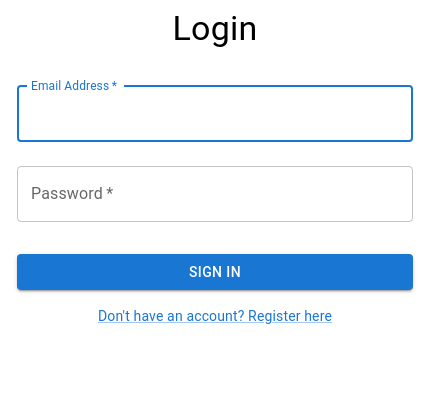
Test: LoginPage Component › displays error message when login fails
This screenshot has width=431, height=397.
In the field labelled "Email Address *": [215, 114] box [17, 86, 413, 142], type "user@example.com"
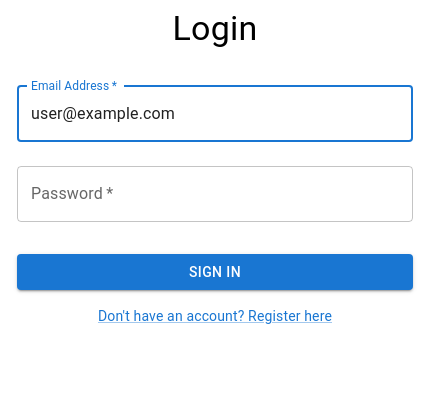
In the password field labelled "Password *": [215, 194] box [17, 166, 413, 222], type "wrongpass"
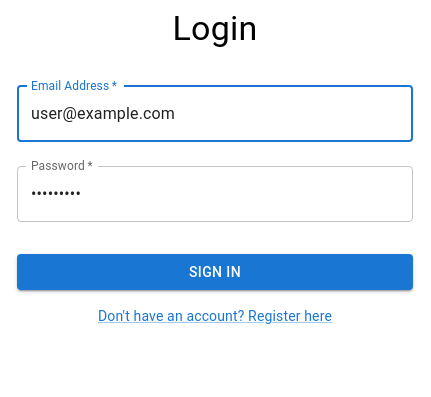
Click the button "Sign In": [215, 272] box [17, 254, 413, 290]
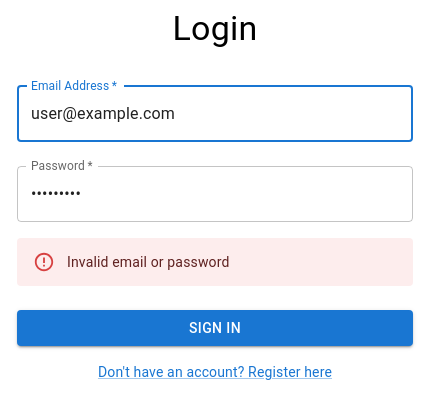
Expected: the text "Invalid email or password" is shown, [67, 254, 230, 270]
